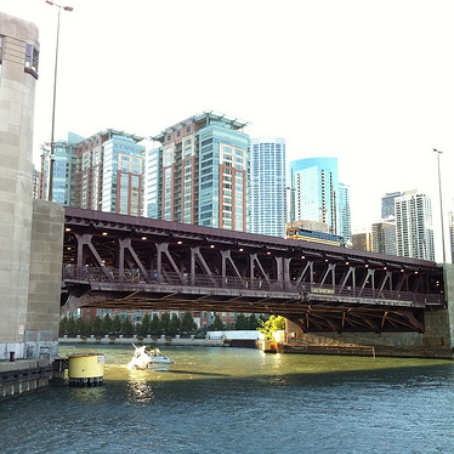bridge: (24, 203, 448, 344)
building: (42, 122, 149, 234), (153, 117, 252, 231), (289, 157, 354, 245), (371, 174, 436, 262), (253, 136, 282, 246)
river: (31, 341, 454, 454)
sky: (57, 1, 445, 171)
